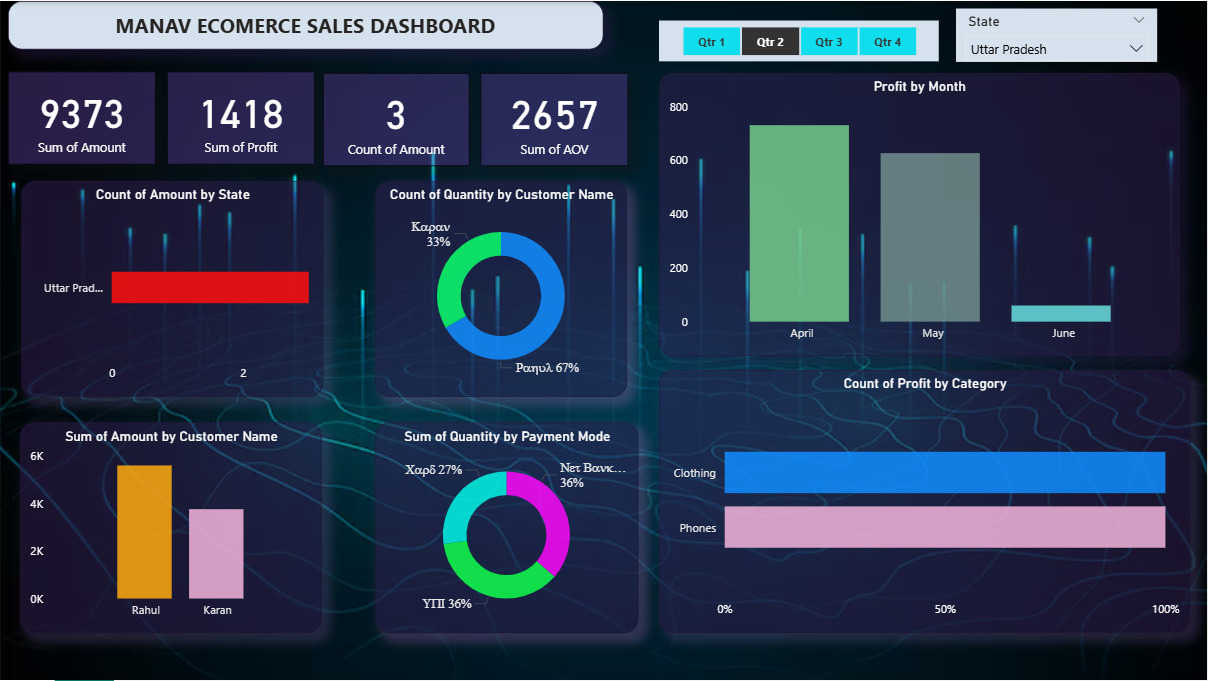

The dashboard page shown, as its layout file describes it:
{"tool":"powerbi","page":{"name":"Page 1","canvas":[1280,720],"ordinal":0},"visuals":[{"type":"textbox","box":[9.4,0,631.2,51],"z":0},{"type":"columnChart","title":"Profit by Month","fields":{"Category":["Orders_Info.Order Date.Variation.Date Hierarchy.Month"],"Y":["Sum(Order_Details.Profit)"]},"box":[700,76.7,551.7,300],"z":1},{"type":"hundredPercentStackedBarChart","fields":{"Category":["Order_Details.Sub-Category"],"Y":["CountNonNull(Order_Details.Profit)"]},"box":[700,391.7,563.3,278.3],"z":2},{"type":"donutChart","fields":{"Category":["Orders_Info.Customer Name"],"Y":["CountNonNull(Order_Details.Quantity)"]},"box":[400,191.7,266.7,228.3],"z":3},{"type":"donutChart","fields":{"Y":["Sum(Order_Details.Quantity)"],"Category":["Order_Details.Payment Mode"]},"box":[400,446.7,278.3,223.3],"z":4},{"type":"card","fields":{"Values":["Sum(Order_Details.AOV)"]},"box":[510,76.7,156.7,98.3],"z":5},{"type":"card","fields":{"Values":["Sum(Order_Details.Amount)"]},"box":[10,75,156.7,98.3],"z":6},{"type":"card","fields":{"Values":["Sum(Order_Details.Profit)"]},"box":[178.3,75,156.7,98.3],"z":7},{"type":"card","fields":{"Values":["CountNonNull(Order_Details.Amount)"]},"box":[343.3,76.7,155,98.3],"z":8},{"type":"barChart","fields":{"Y":["CountNonNull(Order_Details.Amount)"],"Category":["Orders_Info.State"]},"box":[23.3,191.7,320,228.3],"z":9},{"type":"columnChart","fields":{"Category":["Orders_Info.Customer Name"],"Y":["Sum(Order_Details.Amount)"]},"box":[23,447,320,223],"z":10},{"type":"slicer","fields":{"Values":["Orders_Info.Order Date.Variation.Date Hierarchy.Quarter"]},"box":[700,20,296.7,43.3],"z":11},{"type":"slicer","fields":{"Values":["Orders_Info.State"]},"box":[1015.1,7.5,213.2,56.6],"z":12}]}

Visuals, with their boxes in screenshot pixels (x1, y1, x2, y2), scaled from the page's 1280x720 canvas onto the 1208x681 screenshot:
textbox: [x1=9, y1=0, x2=605, y2=48]
"Profit by Month" columnChart: [x1=661, y1=73, x2=1181, y2=356]
hundredPercentStackedBarChart - Order_Details.Sub-Category x CountNonNull(Order_Details.Profit): [x1=661, y1=370, x2=1192, y2=634]
donutChart - Orders_Info.Customer Name x CountNonNull(Order_Details.Quantity): [x1=378, y1=181, x2=629, y2=397]
donutChart - Sum(Order_Details.Quantity) x Order_Details.Payment Mode: [x1=378, y1=423, x2=640, y2=634]
card - Sum(Order_Details.AOV): [x1=481, y1=73, x2=629, y2=166]
card - Sum(Order_Details.Amount): [x1=9, y1=71, x2=157, y2=164]
card - Sum(Order_Details.Profit): [x1=168, y1=71, x2=316, y2=164]
card - CountNonNull(Order_Details.Amount): [x1=324, y1=73, x2=470, y2=166]
barChart - CountNonNull(Order_Details.Amount) x Orders_Info.State: [x1=22, y1=181, x2=324, y2=397]
columnChart - Orders_Info.Customer Name x Sum(Order_Details.Amount): [x1=22, y1=423, x2=324, y2=634]
slicer - Orders_Info.Order Date.Variation.Date Hierarchy.Quarter: [x1=661, y1=19, x2=941, y2=60]
slicer - Orders_Info.State: [x1=958, y1=7, x2=1159, y2=61]
